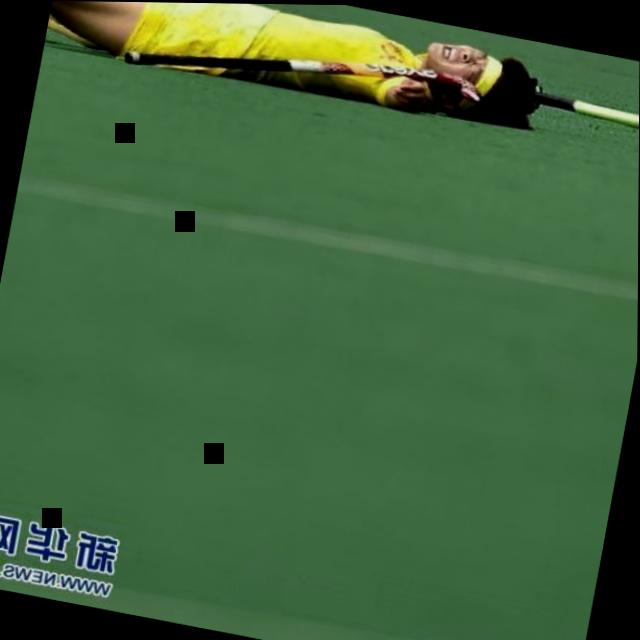Fall-Detected: (54, 1, 543, 137)
